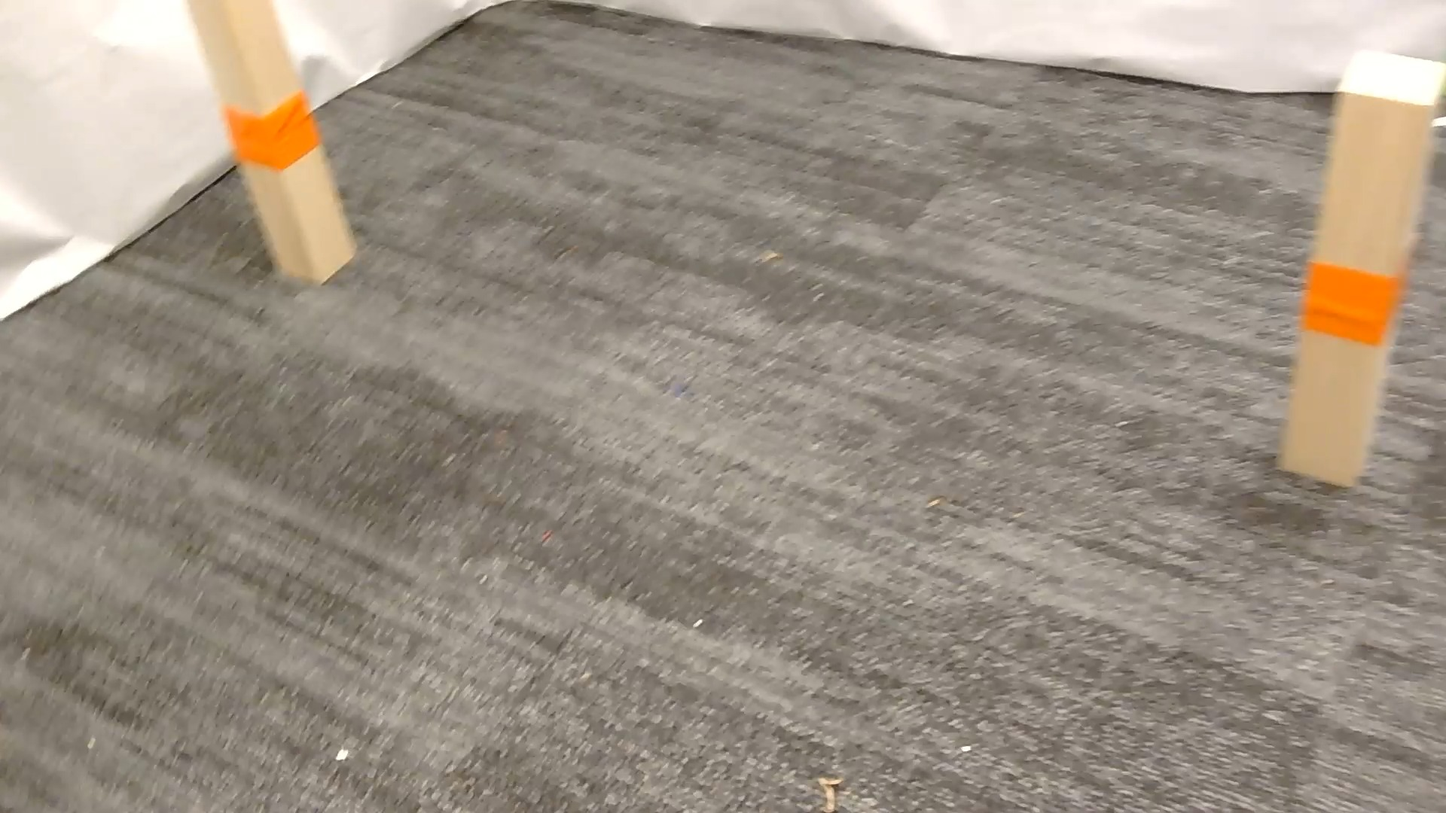Wooden Block: (1277, 51, 1445, 486), (188, 0, 355, 282)
